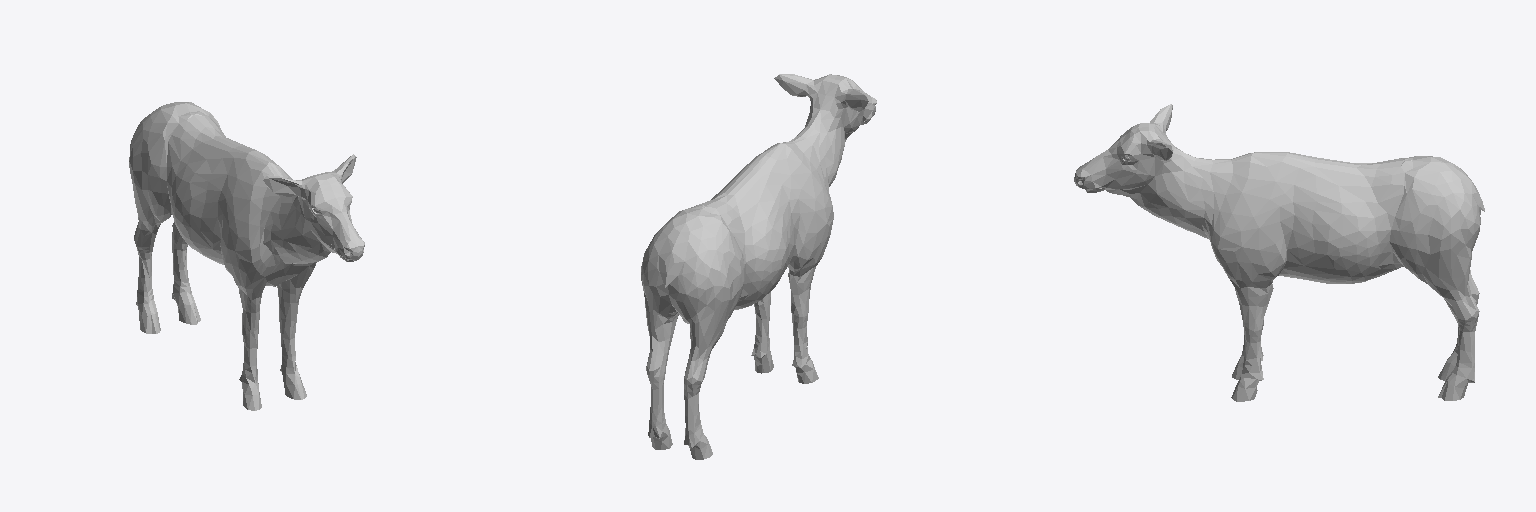
Rendered from elk.obj.
3 renders of one model, left to right at view 1: azimuth 30°, elevation 25°; view 2: azimuth 150°, elevation 25°; view 3: azimuth 270°, elevation 25°, orthographic.
Visible parts, largest first — view 1: Elk; view 2: Elk; view 3: Elk.
Boxes of the visible parts, x1=… form: Elk: x1=129, y1=102, x2=364, y2=410; Elk: x1=641, y1=74, x2=876, y2=459; Elk: x1=1074, y1=104, x2=1484, y2=401.
Size of the model in its own units: 1.27 by 3.38 by 4.8.